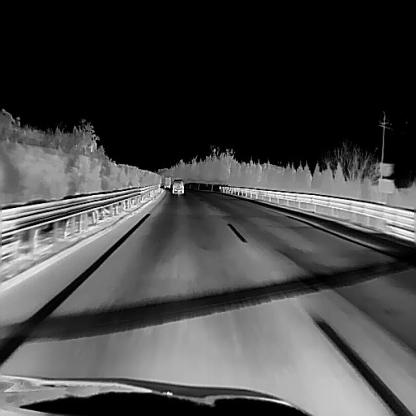car: (171, 178, 183, 193)
truck: (163, 176, 170, 188)
